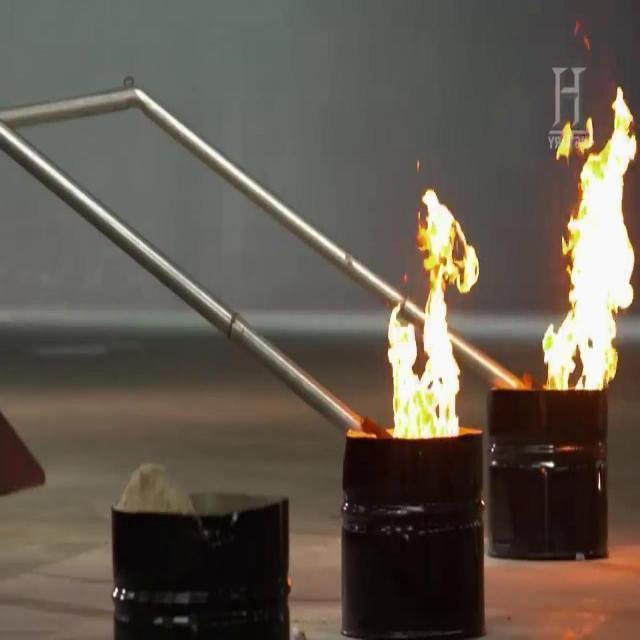Fire: (540, 80, 640, 388), (376, 182, 480, 432)
